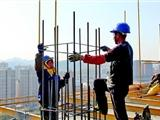helmet: (110, 23, 132, 35), (44, 55, 51, 62)
